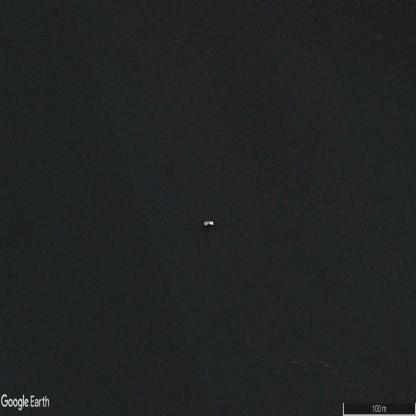ship: (204, 221, 213, 226)
